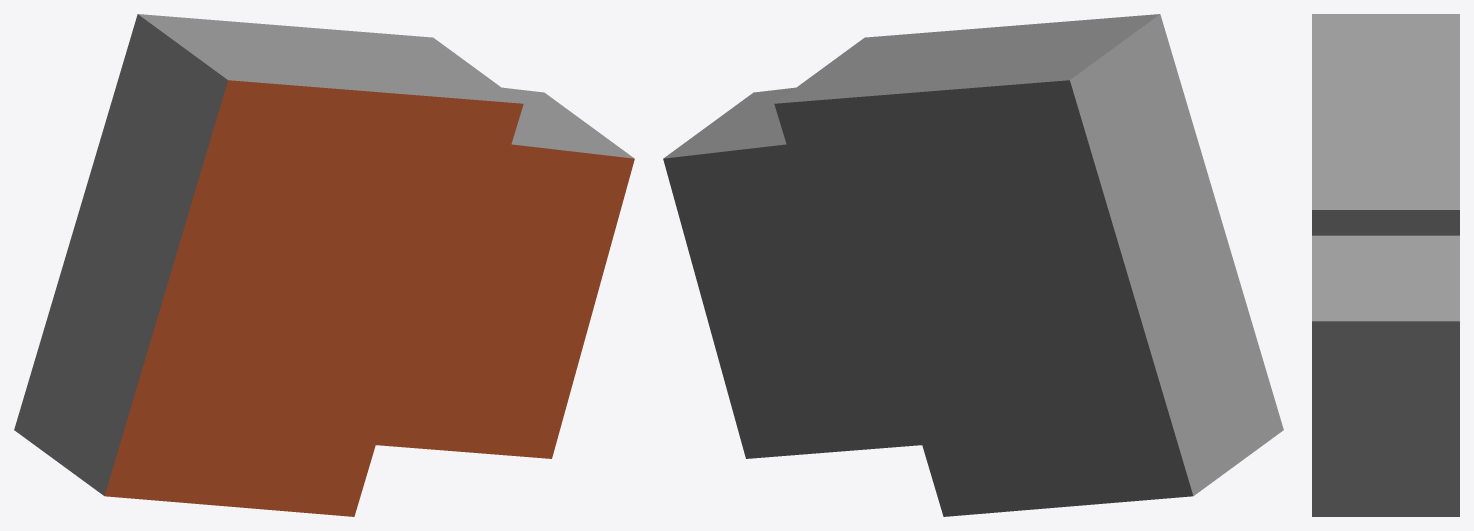
File: construction_2112_assumed_A_Casa_h6m.obj
The picture shows the model from 3 angles, left to right: view 1: azimuth 30°, elevation 25°; view 2: azimuth 150°, elevation 25°; view 3: azimuth 270°, elevation 25°; orthographic projection. The views are drawn at different scales.
Parts seen in each view (by area): view 1: construction_2112_assumed_A_Casa; view 2: construction_2112_assumed_A_Casa; view 3: construction_2112_assumed_A_Casa.
Boxes of the visible parts, bbox=[...] form: construction_2112_assumed_A_Casa: bbox=[14, 14, 634, 516]; construction_2112_assumed_A_Casa: bbox=[663, 14, 1283, 516]; construction_2112_assumed_A_Casa: bbox=[1312, 14, 1459, 516].
Size of the model in its own units: 20.31 by 17.11 by 6.
